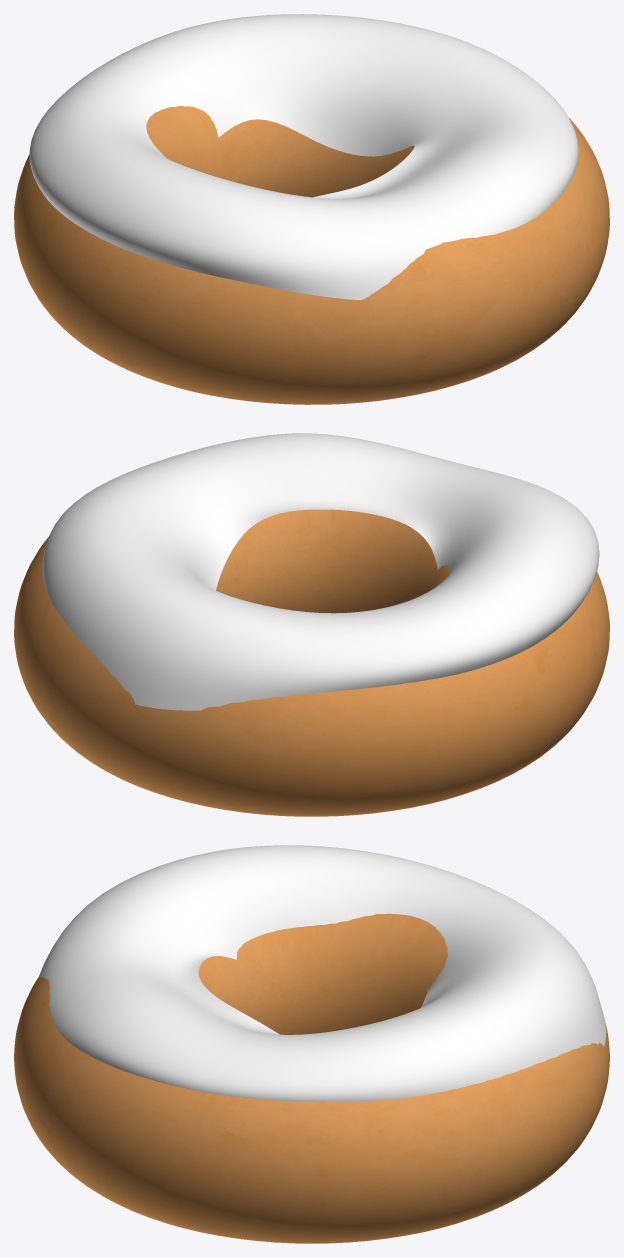
The model's file is Donut3.obj.
3 renders of one model, top to bottom at view 1: azimuth 30°, elevation 25°; view 2: azimuth 150°, elevation 25°; view 3: azimuth 270°, elevation 25°, orthographic.
Visible parts, largest first — view 1: mesh01, mesh02; view 2: mesh01, mesh02; view 3: mesh02, mesh01.
Part boxes in pixels (x1,y1,x2,y2): mesh01: (29, 14, 578, 300); mesh02: (14, 105, 609, 404); mesh01: (42, 433, 599, 710); mesh02: (14, 509, 609, 816); mesh02: (14, 913, 609, 1243); mesh01: (38, 845, 606, 1102).
Size of the model in its own units: 13.77 by 5.28 by 13.76.
Materials: 2 (1 with a texture image).
